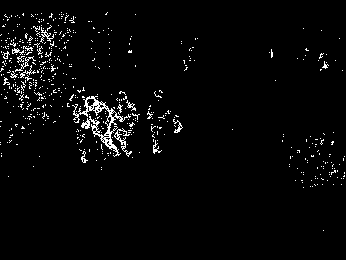person: (77, 94, 122, 159), (146, 87, 184, 154), (109, 90, 140, 157)
